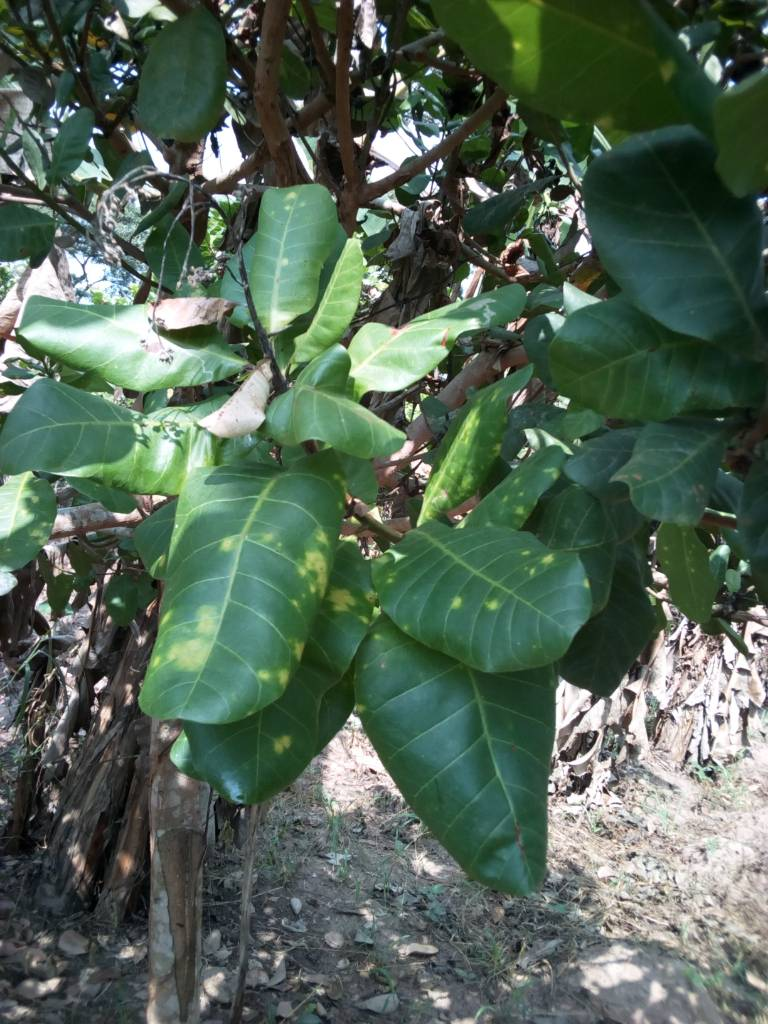Carence minérale: (132, 457, 369, 736), (375, 518, 614, 679)
